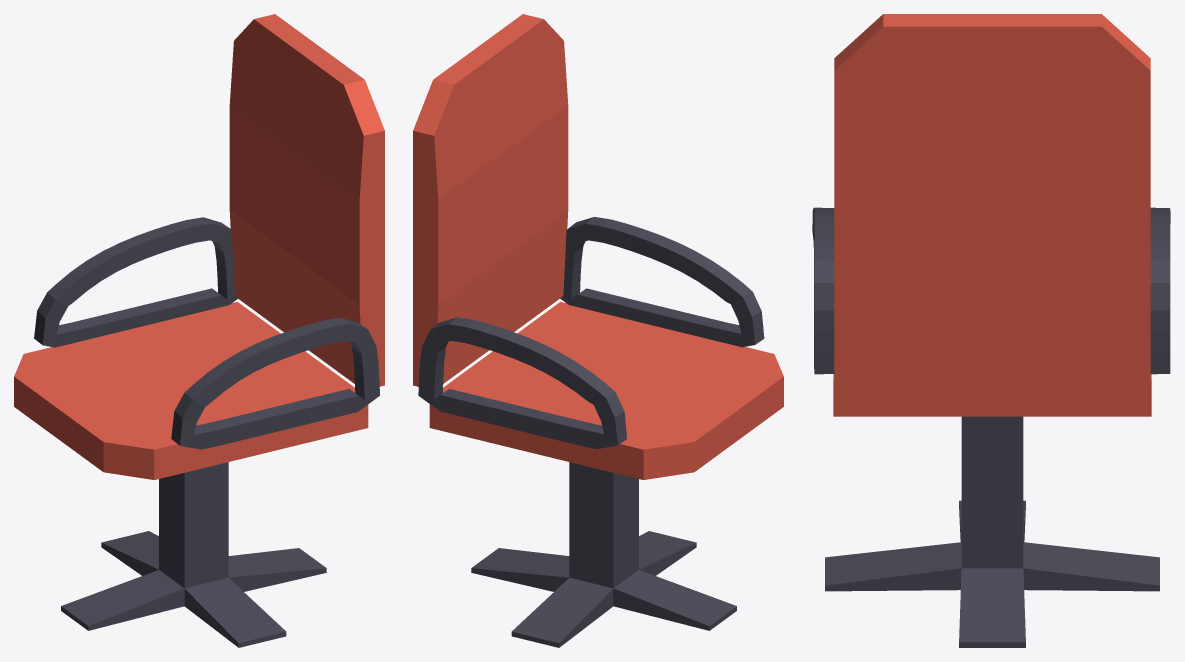
File: chairDesk.fbx
The picture shows the model from 3 angles, left to right: view 1: azimuth 30°, elevation 25°; view 2: azimuth 150°, elevation 25°; view 3: azimuth 270°, elevation 25°; orthographic projection. The views are drawn at different scales.
Parts seen in each view (by area): view 1: Cube.002, Cube.001, Cube, Cube.004, Cube.003; view 2: Cube.002, Cube.001, Cube, Cube.003, Cube.004; view 3: Cube.002, Cube, Cube.001, Cube.004, Cube.003.
Boxes of the visible parts, <box> form: Cube.002: <box>229,14,384,386</box>; Cube.001: <box>14,302,368,479</box>; Cube: <box>61,462,326,647</box>; Cube.004: <box>171,317,379,449</box>; Cube.003: <box>34,217,237,347</box>; Cube.002: <box>413,14,568,386</box>; Cube.001: <box>429,302,783,479</box>; Cube: <box>471,462,736,647</box>; Cube.003: <box>418,317,626,449</box>; Cube.004: <box>560,217,764,347</box>; Cube.002: <box>834,14,1150,380</box>; Cube: <box>825,416,1159,647</box>; Cube.001: <box>833,374,1151,416</box>; Cube.004: <box>812,207,834,374</box>; Cube.003: <box>1150,207,1170,374</box>.
Size of the model in its own units: 768 by 1445 by 750.
